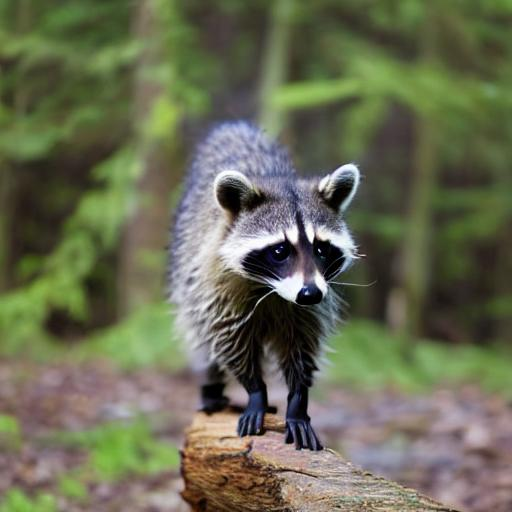raccoon: (154, 109, 374, 403)
